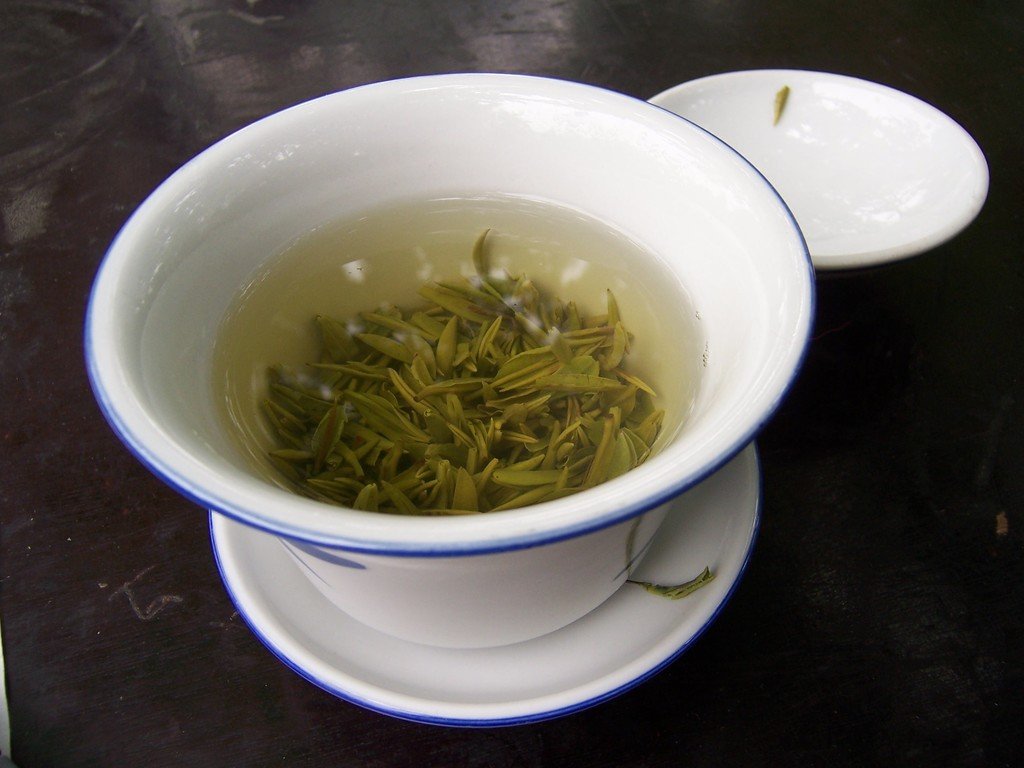plate: (645, 69, 989, 270)
